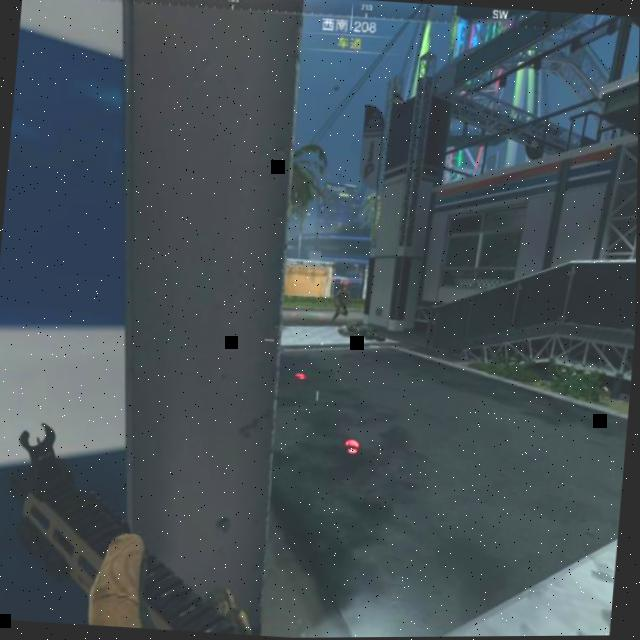MW2_body: (332, 282, 352, 326)
